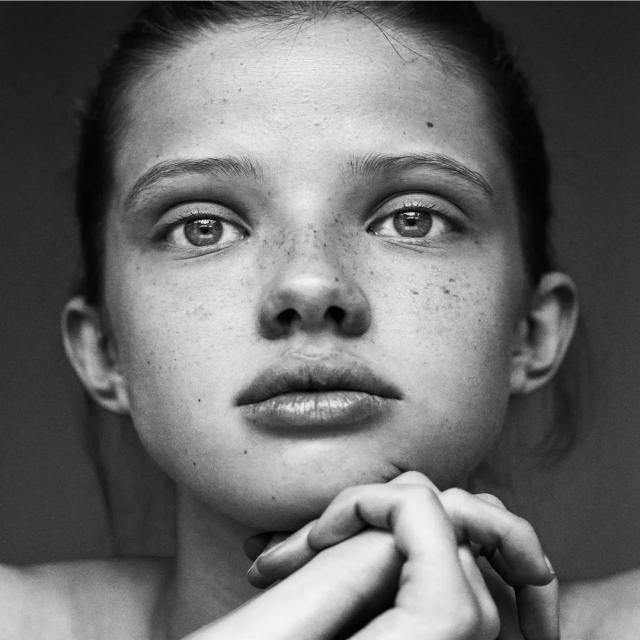earlobe: (506, 274, 582, 399), (60, 298, 133, 416)
